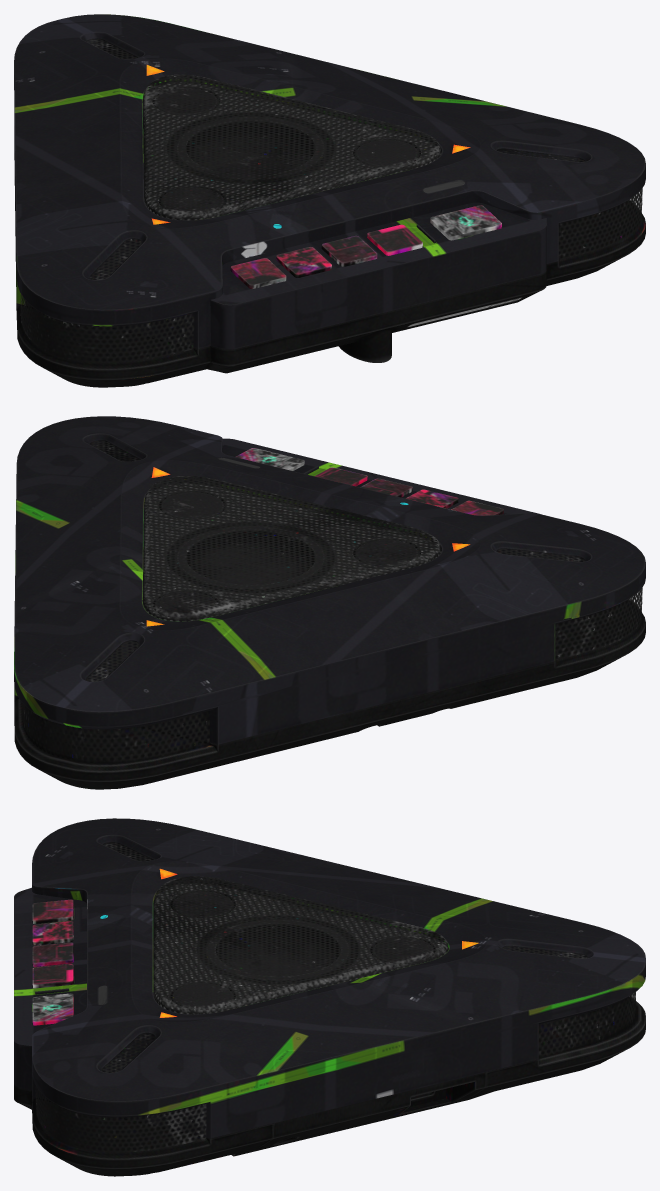
Rendered from module-de-navigation.glb.
3 renders of one model, top to bottom at view 1: azimuth 30°, elevation 25°; view 2: azimuth 150°, elevation 25°; view 3: azimuth 270°, elevation 25°, orthographic. The views are drawn at different scales.
Parts seen in each view (by area): view 1: Conference.001_low_0, Conference.002_low_1, Conference.020_low_6, Conference.003_low_2, Conference.013_low_13, Conference.024_low_23, Conference.007_low_7, Conference.014_low_14, Conference.008_low_8, Conference.015_low_15, Conference.005_low_4; view 2: Conference.001_low_0, Conference.002_low_1, Conference.020_low_6, Conference.013_low_13, Conference.004_low_3, Conference.024_low_23, Conference.003_low_2, Conference.014_low_14, Conference.007_low_7, Conference.015_low_15, Conference.005_low_4, Conference.008_low_8 (+1 smaller); view 3: Conference.001_low_0, Conference.002_low_1, Conference.020_low_6, Conference.013_low_13, Conference.003_low_2, Conference.018_low_17, Conference.024_low_23, Conference.007_low_7, Conference.004_low_3, Conference.014_low_14, Conference.015_low_15, Conference.008_low_8 (+1 smaller).
Boxes of the visible parts, bbox=[...] form: Conference.001_low_0: bbox=[14, 14, 645, 349]; Conference.002_low_1: bbox=[143, 74, 440, 220]; Conference.020_low_6: bbox=[14, 153, 645, 387]; Conference.003_low_2: bbox=[20, 188, 642, 362]; Conference.013_low_13: bbox=[142, 82, 441, 220]; Conference.024_low_23: bbox=[177, 117, 324, 179]; Conference.007_low_7: bbox=[230, 224, 422, 289]; Conference.014_low_14: bbox=[153, 88, 420, 214]; Conference.008_low_8: bbox=[430, 205, 501, 240]; Conference.015_low_15: bbox=[165, 112, 334, 184]; Conference.005_low_4: bbox=[89, 148, 584, 279]; Conference.001_low_0: bbox=[14, 416, 645, 744]; Conference.002_low_1: bbox=[143, 476, 440, 621]; Conference.020_low_6: bbox=[14, 600, 645, 789]; Conference.013_low_13: bbox=[142, 483, 441, 621]; Conference.004_low_3: bbox=[22, 703, 209, 763]; Conference.024_low_23: bbox=[177, 526, 324, 588]; Conference.003_low_2: bbox=[555, 587, 642, 660]; Conference.014_low_14: bbox=[153, 492, 420, 618]; Conference.007_low_7: bbox=[315, 467, 503, 515]; Conference.015_low_15: bbox=[166, 521, 335, 593]; Conference.005_low_4: bbox=[90, 440, 584, 561]; Conference.008_low_8: bbox=[235, 448, 304, 470]; Conference.001_low_0: bbox=[14, 818, 645, 1138]; Conference.002_low_1: bbox=[154, 876, 447, 1014]; Conference.020_low_6: bbox=[14, 996, 645, 1176]; Conference.013_low_13: bbox=[153, 883, 448, 1014]; Conference.003_low_2: bbox=[35, 1086, 206, 1152]; Conference.018_low_17: bbox=[247, 1072, 486, 1153]; Conference.024_low_23: bbox=[206, 920, 348, 980]; Conference.007_low_7: bbox=[32, 899, 73, 988]; Conference.004_low_3: bbox=[538, 992, 635, 1057]; Conference.014_low_14: bbox=[170, 891, 435, 1009]; Conference.015_low_15: bbox=[195, 915, 360, 984]; Conference.008_low_8: bbox=[32, 993, 73, 1025].
Bounding box in the file's own units: 0.2562 × 0.0522 × 0.2416.
Materials: 1 (1 with a texture image).
